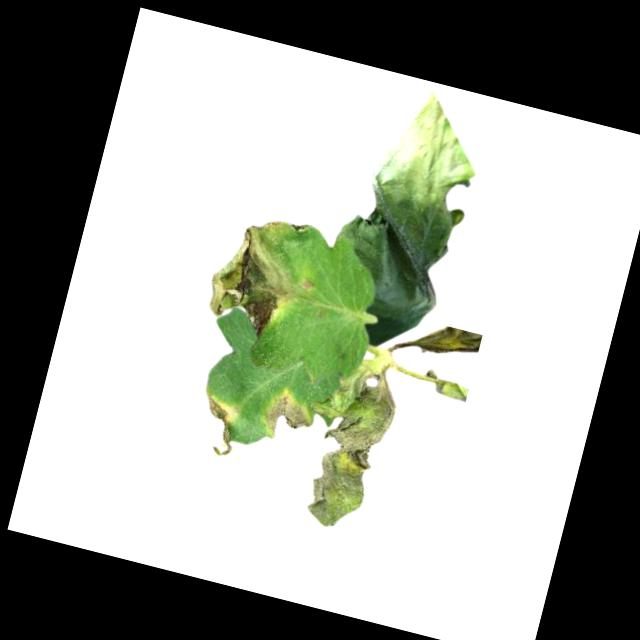Late_blight: (317, 78, 496, 360), (288, 352, 404, 534), (200, 206, 308, 343), (191, 393, 246, 458), (259, 391, 316, 447)
